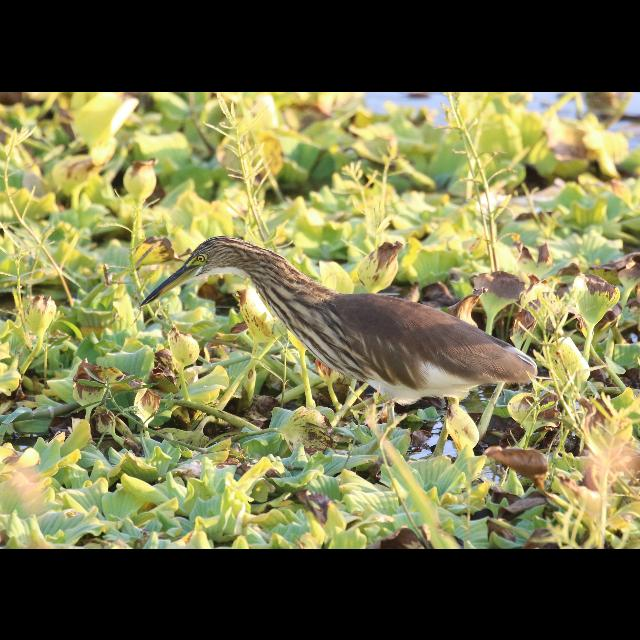heron: (140, 225, 532, 461)
